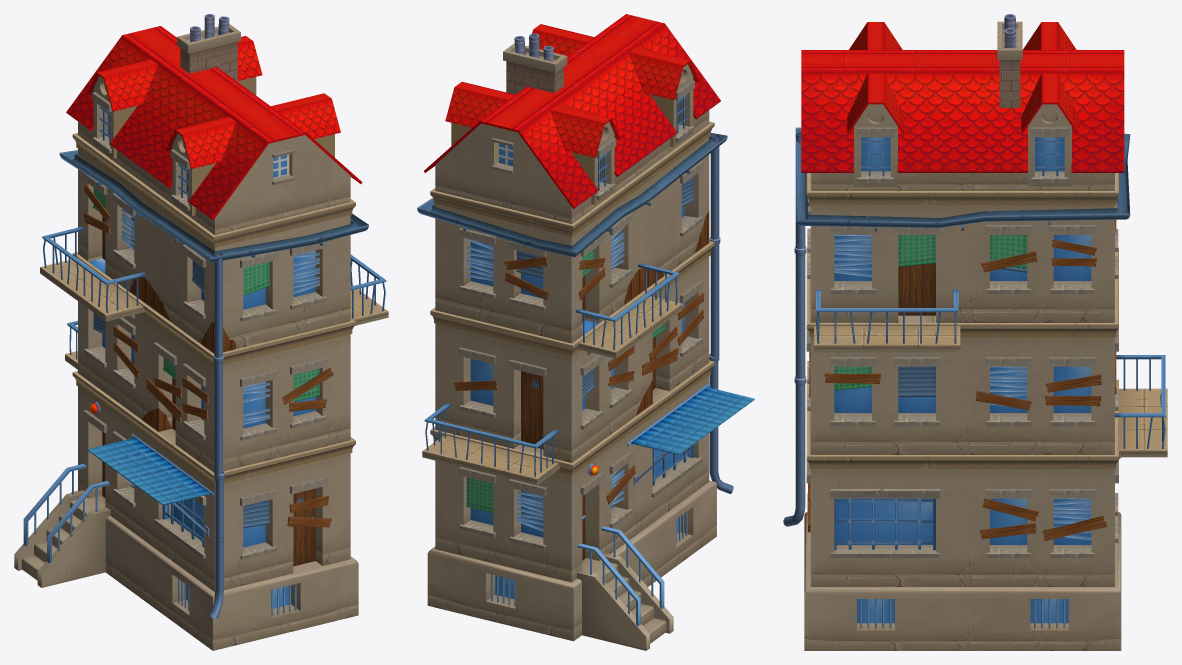
File: Building_01_2.fbx
3 renders of one model, left to right at view 1: azimuth 30°, elevation 25°; view 2: azimuth 150°, elevation 25°; view 3: azimuth 270°, elevation 25°, orthographic. The views are drawn at different scales.
Visible parts, largest first — view 1: polySurface578; view 2: polySurface578; view 3: polySurface578.
Part boxes in pixels (<box>): polySurface578: <box>14,14,388,650</box>; polySurface578: <box>417,14,754,650</box>; polySurface578: <box>783,14,1167,650</box>.
Size of the model in its own units: 719 by 1534 by 884.
